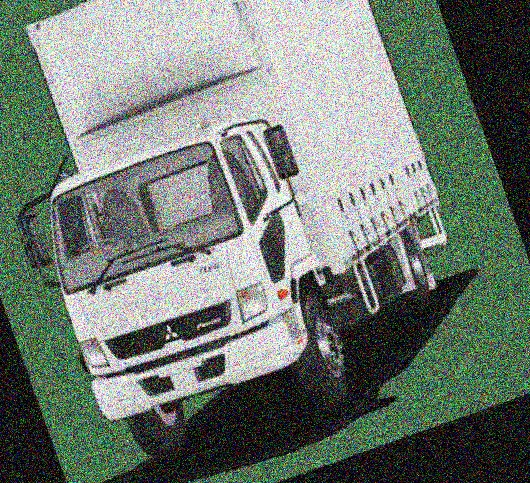truck: (0, 0, 507, 483)
